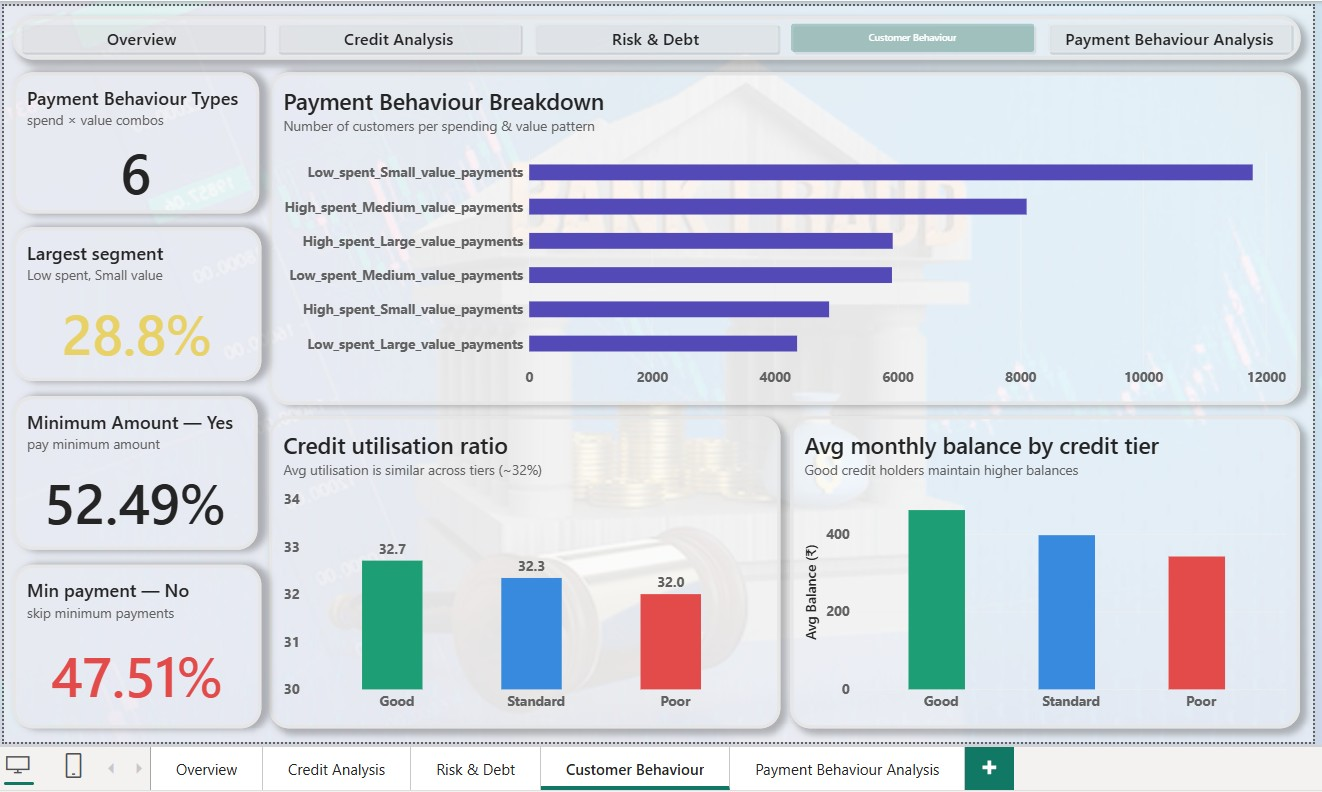

This screenshot's page, from the dashboard's own definition file:
{"tool":"powerbi","page":{"name":"Customer Behaviour","canvas":[1920,1080],"ordinal":3},"visuals":[{"type":"clusteredBarChart","title":"Payment Behaviour Breakdown","fields":{"Category":["paisabazar_bank_fraud_detection_project-dataset.Payment_Behaviour"],"Y":["paisabazar_bank_fraud_detection_project-dataset.Total Customers"]},"box":[388.9,97.2,1513.3,487.9],"z":0},{"type":"clusteredColumnChart","title":"Credit utilisation ratio","fields":{"Category":["paisabazar_bank_fraud_detection_project-dataset.Credit_Score"],"Y":["paisabazar_bank_fraud_detection_project-dataset.Avg Credit Utilization"]},"box":[389.2,601.1,750.3,458.4],"z":1000},{"type":"clusteredColumnChart","title":"Avg monthly balance by credit tier","fields":{"Category":["paisabazar_bank_fraud_detection_project-dataset.Credit_Score"],"Y":["paisabazar_bank_fraud_detection_project-dataset.Avg Monthly Balance"]},"box":[1154.6,601.1,748.1,458.4],"z":3000},{"type":"card","title":"Payment Behaviour Types","fields":{"Values":["Count(paisabazar_bank_fraud_detection_project-dataset.Payment_Behaviour)"]},"box":[12.8,97.2,361.3,207.3],"z":4000},{"type":"card","title":"Minimum Amount — Yes","fields":{"Values":["paisabazar_bank_fraud_detection_project-dataset.Pays Min Amount %"]},"box":[12.8,572.3,359.5,225.6],"z":5000},{"type":"card","title":"Min payment — No","fields":{"Values":["paisabazar_bank_fraud_detection_project-dataset.Does Not Pay Min %"]},"box":[12.8,819.9,365,240.3],"z":6000},{"type":"card","title":"Largest segment","fields":{"Values":["paisabazar_bank_fraud_detection_project-dataset.Largest_Segment_%"]},"box":[12.8,324.7,365,225.6],"z":7000},{"type":"pageNavigator","box":[12.8,14.7,1889.3,64.2],"z":7001}]}

Visuals, with their boxes on the page's 1920x1080 design canvas (x1, y1, x2, y2). These are canvas units, not pixel positions in the 1322x792 screenshot, which may show the page scaled, cropped or inside an application window:
"Payment Behaviour Breakdown" clusteredBarChart: left=389, top=97, right=1902, bottom=585
"Credit utilisation ratio" clusteredColumnChart: left=389, top=601, right=1140, bottom=1060
"Avg monthly balance by credit tier" clusteredColumnChart: left=1155, top=601, right=1903, bottom=1060
"Payment Behaviour Types" card: left=13, top=97, right=374, bottom=304
"Minimum Amount — Yes" card: left=13, top=572, right=372, bottom=798
"Min payment — No" card: left=13, top=820, right=378, bottom=1060
"Largest segment" card: left=13, top=325, right=378, bottom=550
pageNavigator: left=13, top=15, right=1902, bottom=79
